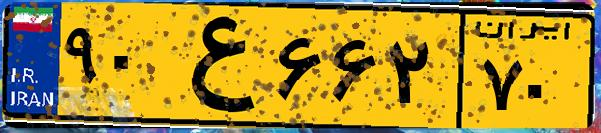0: (525, 38, 570, 115), (110, 28, 158, 98)
2: (385, 28, 445, 110)
6: (270, 28, 330, 110), (330, 28, 385, 110)
7: (475, 38, 525, 113)
9: (57, 26, 110, 100)
ع: (158, 12, 270, 120)
